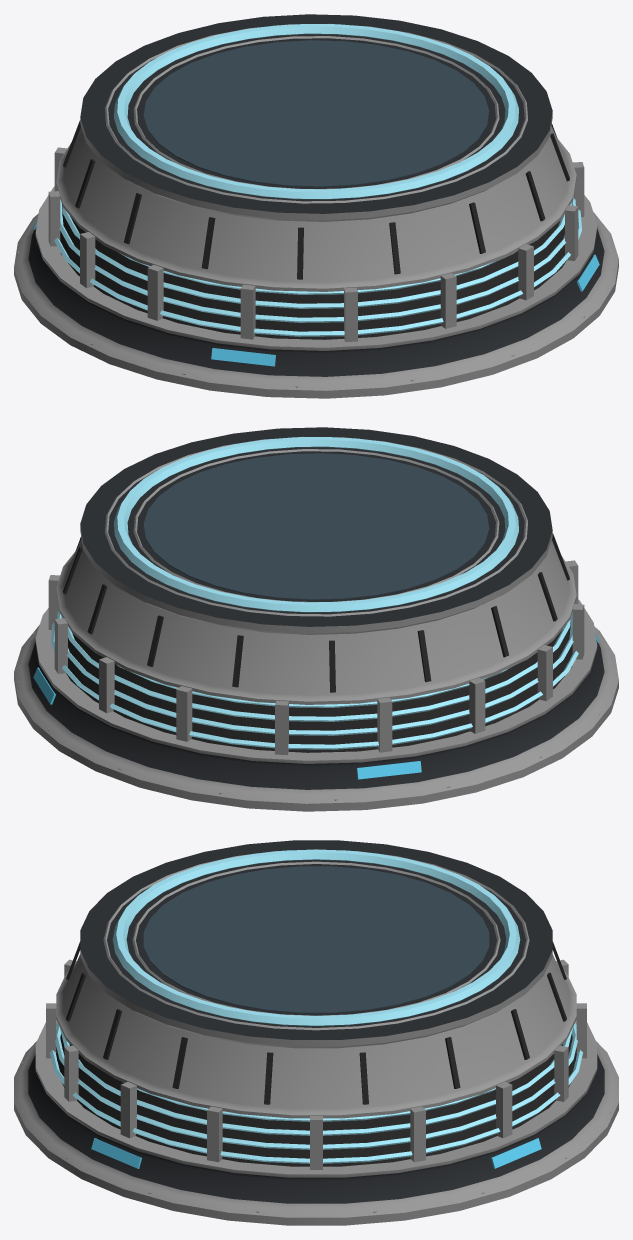
Rendered from Vault_Pedestal_Attunement.fbx.
3 renders of one model, top to bottom at view 1: azimuth 30°, elevation 25°; view 2: azimuth 150°, elevation 25°; view 3: azimuth 270°, elevation 25°, orthographic.
Visible parts, largest first — view 1: Vault_Pedestal_Attunement_LOD0; view 2: Vault_Pedestal_Attunement_LOD0; view 3: Vault_Pedestal_Attunement_LOD0.
Part boxes in pixels (x1,y1,x2,y2): Vault_Pedestal_Attunement_LOD0: [14, 14, 618, 398]; Vault_Pedestal_Attunement_LOD0: [14, 427, 618, 811]; Vault_Pedestal_Attunement_LOD0: [14, 840, 618, 1225].
Size of what is drawn, in the model's own units: 4.18 by 1.25 by 4.18.
